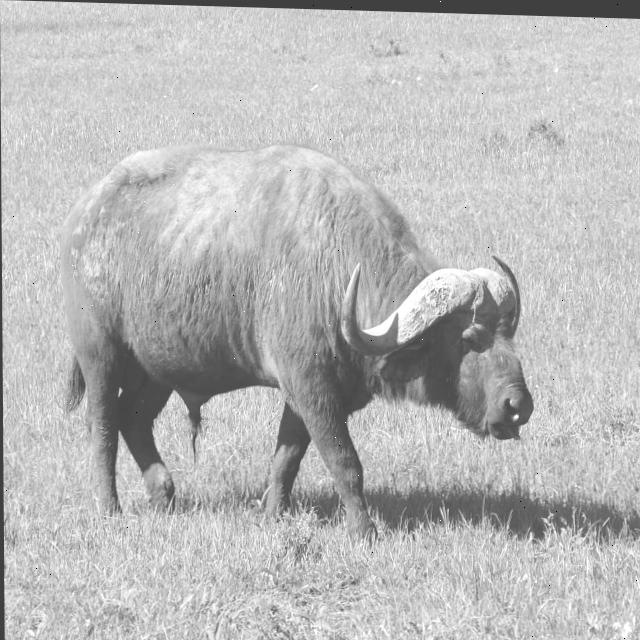Buffalo: (59, 139, 532, 543)
